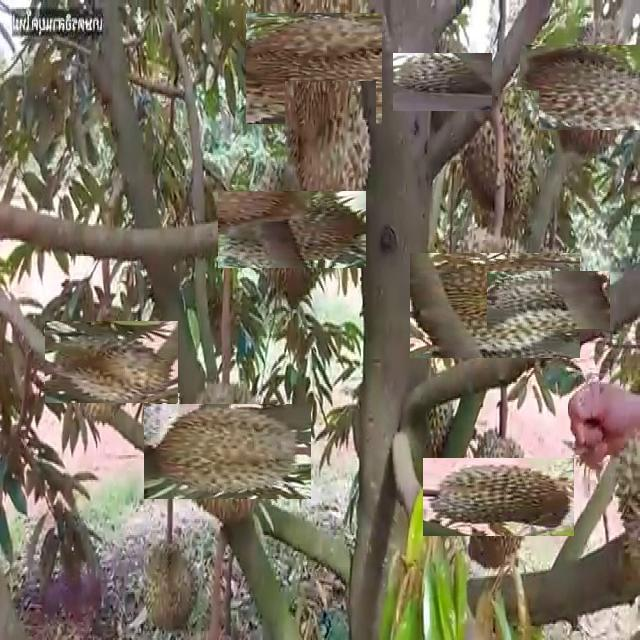durian: (426, 236, 564, 374), (161, 386, 293, 517), (252, 6, 376, 130), (441, 439, 556, 555), (285, 81, 376, 226), (236, 173, 349, 286), (535, 28, 640, 145), (58, 308, 166, 416), (454, 90, 538, 227), (503, 255, 595, 345), (403, 42, 482, 121), (141, 530, 201, 632)
